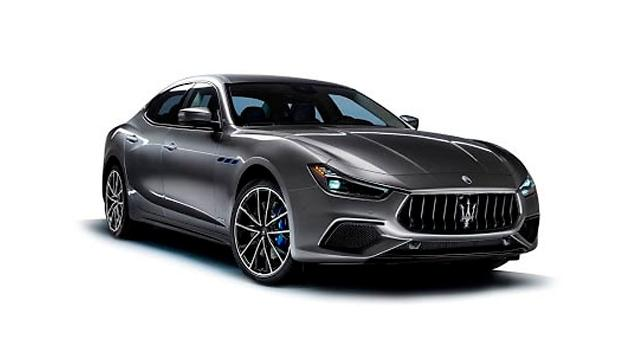maserati: (101, 74, 539, 284)
